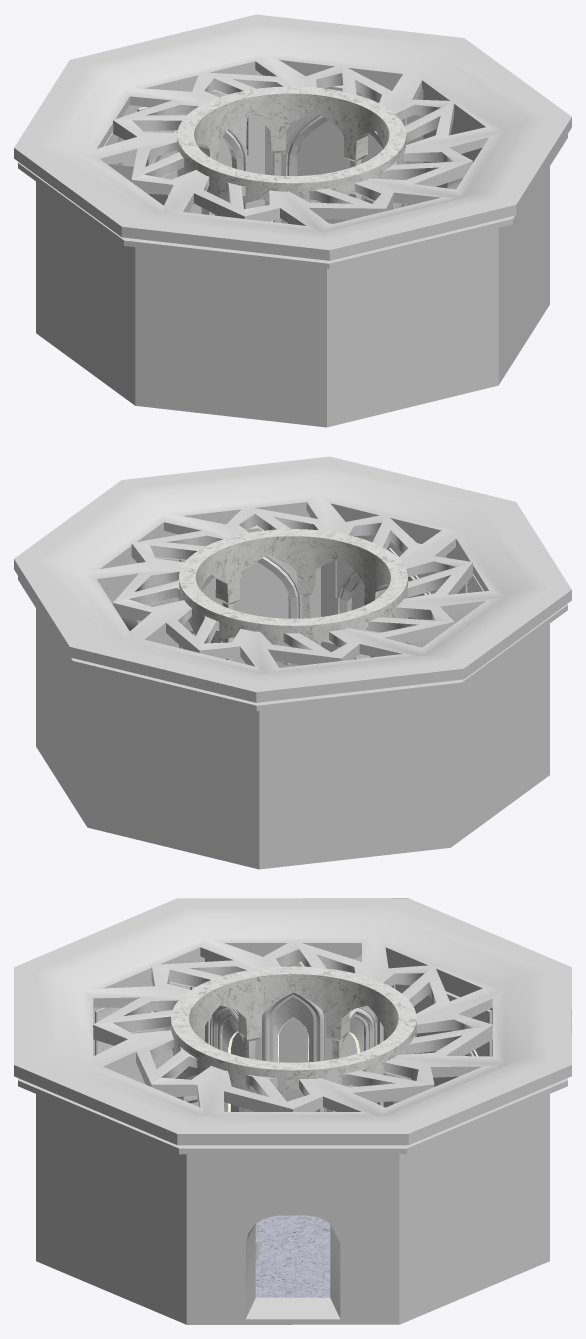
The model's file is Temple.fbx.
3 renders of one model, top to bottom at view 1: azimuth 30°, elevation 25°; view 2: azimuth 150°, elevation 25°; view 3: azimuth 270°, elevation 25°, orthographic. The views are drawn at different scales.
Parts seen in each view (by area): view 1: Circle.001_Baked, Pillar_Baked, Portal.001_Baked, Portal.002; view 2: Circle.001_Baked, Pillar_Baked, Portal.001_Baked, Portal.002; view 3: Circle.001_Baked, Pillar_Baked, Front_Baked, Circle.004_Baked, Portal.001_Baked, Portal.002.
Part boxes in pixels (x1,y1,x2,y2): Circle.001_Baked: (14, 14, 571, 427); Pillar_Baked: (177, 86, 406, 222); Portal.001_Baked: (103, 85, 406, 223); Portal.002: (159, 120, 391, 223); Circle.001_Baked: (14, 456, 571, 869); Pillar_Baked: (179, 529, 408, 667); Portal.001_Baked: (179, 527, 483, 666); Portal.002: (194, 562, 428, 664); Circle.001_Baked: (14, 898, 571, 1324); Pillar_Baked: (171, 966, 416, 1260); Front_Baked: (205, 955, 383, 1111); Circle.004_Baked: (255, 1215, 330, 1297); Portal.001_Baked: (95, 983, 491, 1104); Portal.002: (114, 1028, 468, 1086).
Size of the model in its own units: 3727 by 1531 by 3727.
6 materials, 5 textured.
